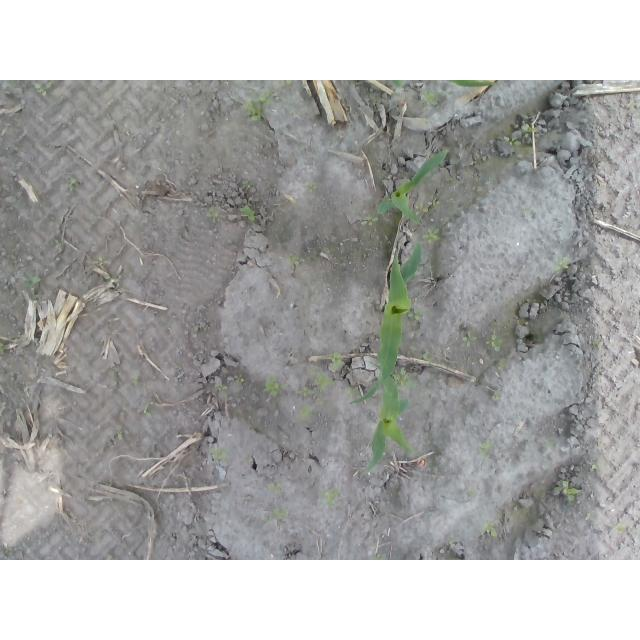Maize: (347, 243, 425, 477), (376, 150, 448, 227)
Weeds: (242, 94, 270, 123), (554, 482, 583, 502), (22, 276, 42, 303), (263, 378, 289, 398), (391, 369, 413, 388), (478, 439, 494, 463), (327, 351, 345, 371), (266, 509, 290, 524), (315, 367, 329, 389), (408, 309, 428, 324), (208, 448, 228, 463), (33, 82, 51, 98), (422, 228, 442, 242), (324, 487, 338, 507), (240, 205, 256, 222), (419, 92, 437, 106), (488, 334, 502, 351), (413, 203, 429, 217), (483, 525, 499, 539), (115, 424, 128, 441), (541, 439, 555, 454), (555, 257, 570, 271), (522, 125, 538, 138), (299, 407, 314, 420), (208, 208, 220, 224), (93, 256, 108, 268), (298, 388, 316, 398), (463, 332, 475, 347), (589, 458, 603, 470), (503, 136, 521, 145), (67, 178, 77, 194), (269, 483, 283, 494), (362, 218, 379, 227), (228, 374, 244, 383), (498, 358, 507, 373), (285, 257, 300, 266), (614, 524, 626, 535), (144, 403, 153, 417), (422, 350, 431, 363), (493, 390, 503, 401), (585, 514, 597, 523), (111, 371, 118, 386), (427, 199, 440, 207), (134, 372, 143, 383), (307, 184, 318, 193), (390, 81, 404, 88), (217, 386, 227, 395), (242, 182, 251, 191), (284, 80, 293, 86), (596, 342, 602, 346)
